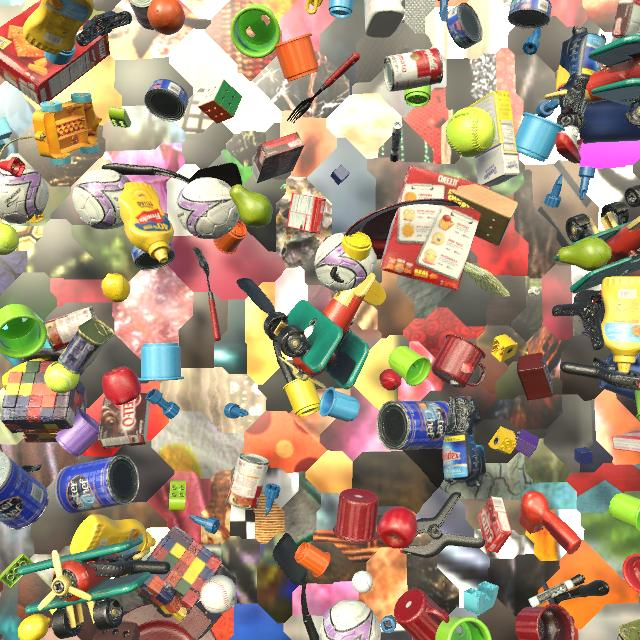ycb_002_master_chef_can: (54, 455, 139, 514), (0, 451, 49, 530), (376, 400, 449, 451)
ycb_003_cracker_box: (379, 166, 490, 290), (0, 0, 110, 105)
ycb_004_sugar_box: (468, 91, 520, 187), (573, 301, 593, 338)
ycb_005_tomato_soup_can: (383, 47, 443, 92), (43, 307, 98, 352), (226, 453, 269, 510), (128, 0, 155, 30)
ycb_006_mustard_bottle: (118, 182, 174, 263), (23, 0, 94, 55), (601, 276, 640, 373), (70, 514, 156, 555), (2, 358, 45, 390)
ycb_007_tuna_fish_can: (144, 79, 188, 121), (446, 2, 483, 49), (508, 0, 552, 29), (131, 242, 175, 271)
ycb_008_pudding_box: (98, 393, 150, 449), (251, 132, 304, 183), (611, 0, 640, 39)
ycb_009_gelatin_box: (477, 496, 512, 553), (286, 193, 326, 234), (612, 430, 640, 452), (602, 64, 606, 66)
ycb_010_potted_meat_can: (58, 318, 115, 374), (617, 619, 640, 640)
ycb_012_strawberry: (379, 369, 402, 391)
ycb_013_apple: (378, 506, 417, 549), (102, 366, 141, 405)
ycb_014_lemon: (101, 273, 130, 303), (18, 614, 51, 640)
ycb_016_pear: (229, 184, 273, 227), (557, 237, 612, 271)
ycb_017_orange: (148, 0, 185, 35)
